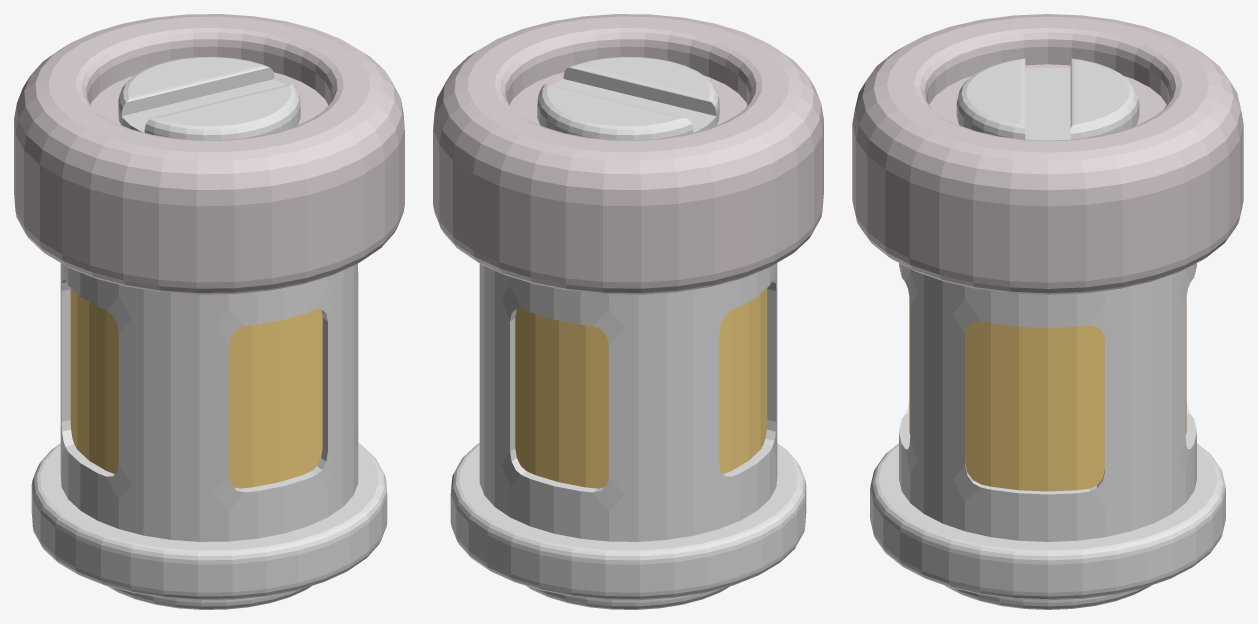
Rendered from battery (1).fbx.
3 views of the same model, side by side, from view 1: azimuth 30°, elevation 25°; view 2: azimuth 150°, elevation 25°; view 3: azimuth 270°, elevation 25° (orthographic).
Parts seen in each view (by area): view 1: Body, Cap, Light; view 2: Body, Cap, Light; view 3: Body, Cap, Light.
Boxes of the visible parts, bbox=[...] form: Body: bbox=[31, 56, 387, 609]; Cap: bbox=[14, 14, 404, 294]; Light: bbox=[70, 288, 322, 488]; Body: bbox=[450, 56, 806, 609]; Cap: bbox=[433, 14, 823, 294]; Light: bbox=[515, 288, 767, 488]; Body: bbox=[870, 58, 1225, 609]; Cap: bbox=[852, 14, 1243, 294]; Light: bbox=[909, 297, 1186, 491].
Size of the model in its own units: 40 by 53.55 by 40.
